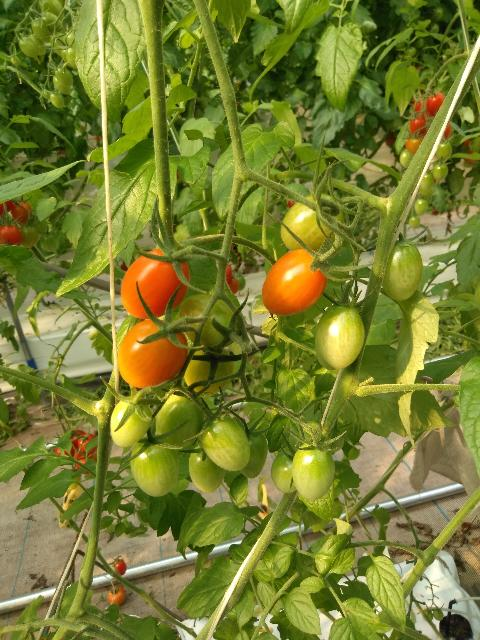l_fully_ripened: (121, 248, 190, 319), (0, 224, 22, 246)
l_green: (279, 194, 345, 253), (177, 293, 241, 350), (317, 303, 366, 369), (150, 390, 205, 448), (130, 436, 179, 497), (200, 414, 250, 472), (182, 346, 235, 395), (382, 239, 423, 302), (292, 443, 336, 500), (110, 397, 153, 449), (189, 443, 227, 493), (239, 428, 268, 479), (271, 450, 297, 494), (20, 225, 39, 249), (324, 430, 344, 452), (18, 37, 38, 58), (53, 73, 72, 95), (54, 66, 73, 87), (50, 92, 65, 108)
l_half_ripened: (117, 319, 188, 390), (261, 248, 328, 316)
